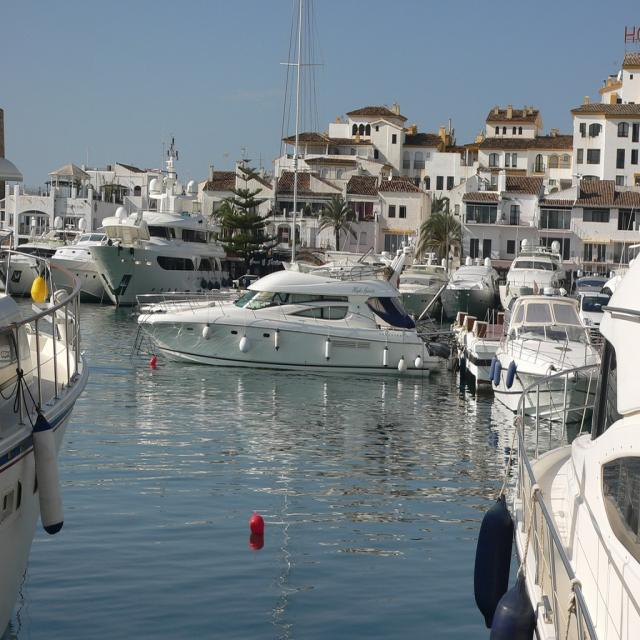Boat: (0, 0, 639, 639), (126, 248, 467, 371)
